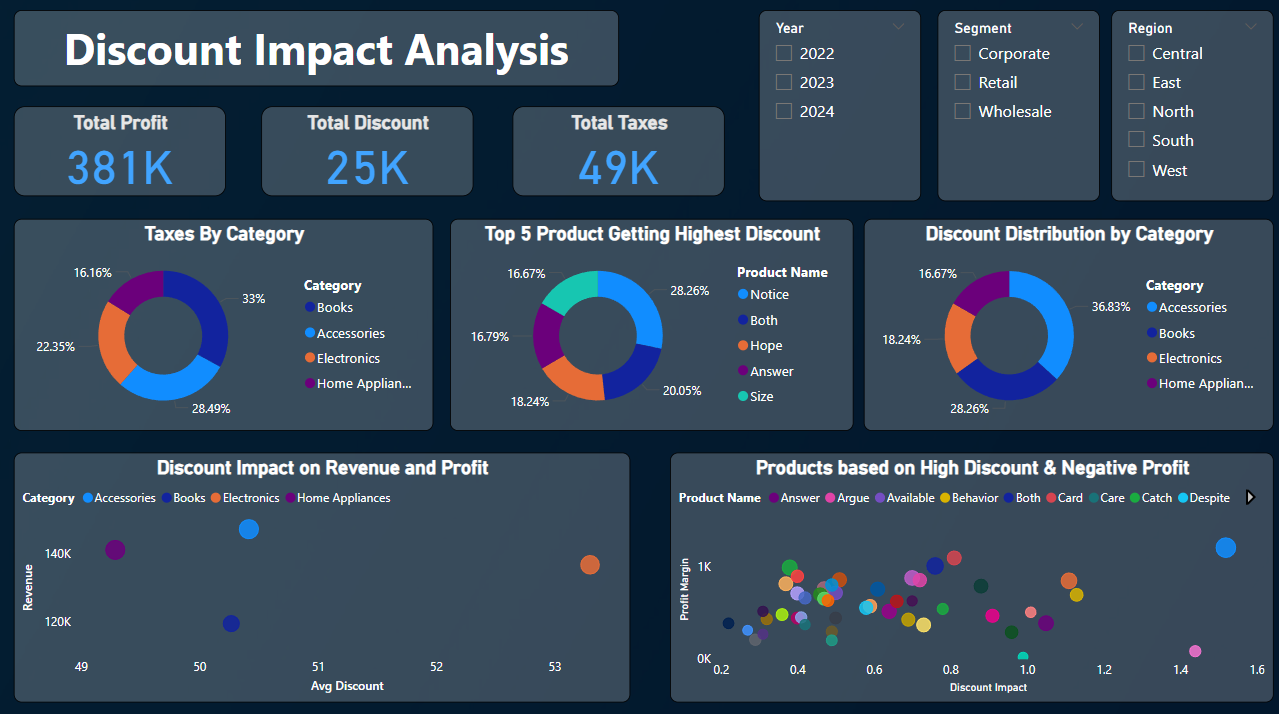

The page's visual inventory and layout, read from the dashboard file:
{"tool":"powerbi","page":{"name":"Discount Impact Analysis","canvas":[1280,720],"ordinal":3},"visuals":[{"type":"donutChart","title":"Top 5 Product Getting Highest Discount","fields":{"Category":["Sales data.Products_Large.ProductName"],"Y":["Sum(Sales data.Sales_Large.Discounts)"]},"box":[447.8,222.7,401.8,211.5],"z":0},{"type":"scatterChart","title":"Discount Impact on Revenue and Profit","fields":{"X":["Avg(Sales data.Sales_Large.Discounts)"],"Y":["Sum(Sales data.Sales_Large.Revenue)"],"Size":["Sum(Sales data.Profit)"],"Series":["Sales data.Products_Large.Category"]},"box":[13.7,455.3,613.3,248.8],"z":1000},{"type":"scatterChart","title":"Products based on High Discount & Negative Profit","fields":{"X":["Sum(Sales data.Dicsount Impact)"],"Y":["Sum(Sales data.Profit Margin)"],"Size":["Sum(Sales data.Sales_Large.Revenue)"],"Series":["Sales data.Products_Large.ProductName"]},"box":[666.8,455.3,600.8,248.8],"z":2000},{"type":"donutChart","title":"Discount Distribution by Category","fields":{"Y":["Sum(Sales data.Sales_Large.Discounts)"],"Category":["Sales data.Products_Large.Category"]},"box":[859.6,222.7,408,211.5],"z":3000},{"type":"textbox","box":[13.7,14.9,602.1,75.9],"z":4000},{"type":"card","title":"Total Discount","fields":{"Values":["Sum(Sales data.Sales_Large.Discounts)"]},"box":[260,110.7,211.5,89.6],"z":5000},{"type":"slicer","fields":{"Values":["Sales data.Region"]},"box":[1105.9,14.9,161.7,190.3],"z":6000},{"type":"donutChart","title":"Taxes By Category","fields":{"Y":["Sum(Sales data.Sales_Large.Taxes)"],"Category":["Sales data.Products_Large.Category"]},"box":[13.7,222.7,418,211.5],"z":7000},{"type":"card","title":"Total Taxes","fields":{"Values":["Sum(Sales data.Sales_Large.Taxes)"]},"box":[510,110.7,211.5,89.6],"z":8000},{"type":"slicer","fields":{"Values":["Sales data.Segment"]},"box":[933,14.9,161.7,190.3],"z":9000},{"type":"slicer","fields":{"Values":["Sales data.Orders_Large.OrderDate.Variation.Date Hierarchy.Year"]},"box":[755.1,14.9,161.7,190.3],"z":10000},{"type":"card","title":"Total Profit","fields":{"Values":["Sum(Sales data.Profit)"]},"box":[13.7,110.7,211.5,89.6],"z":11000}]}

Visuals, with their boxes in screenshot pixels (x1, y1, x2, y2), scaled from the page's 1280x720 canvas onto the 1279x714 screenshot:
"Top 5 Product Getting Highest Discount" donutChart: detection(447, 221, 849, 431)
"Discount Impact on Revenue and Profit" scatterChart: detection(14, 452, 627, 698)
"Products based on High Discount & Negative Profit" scatterChart: detection(666, 452, 1267, 698)
"Discount Distribution by Category" donutChart: detection(859, 221, 1267, 431)
textbox: detection(14, 15, 615, 90)
"Total Discount" card: detection(260, 110, 471, 199)
slicer - Sales data.Region: detection(1105, 15, 1267, 203)
"Taxes By Category" donutChart: detection(14, 221, 431, 431)
"Total Taxes" card: detection(510, 110, 721, 199)
slicer - Sales data.Segment: detection(932, 15, 1094, 203)
slicer - Sales data.Orders_Large.OrderDate.Variation.Date Hierarchy.Year: detection(755, 15, 916, 203)
"Total Profit" card: detection(14, 110, 225, 199)
